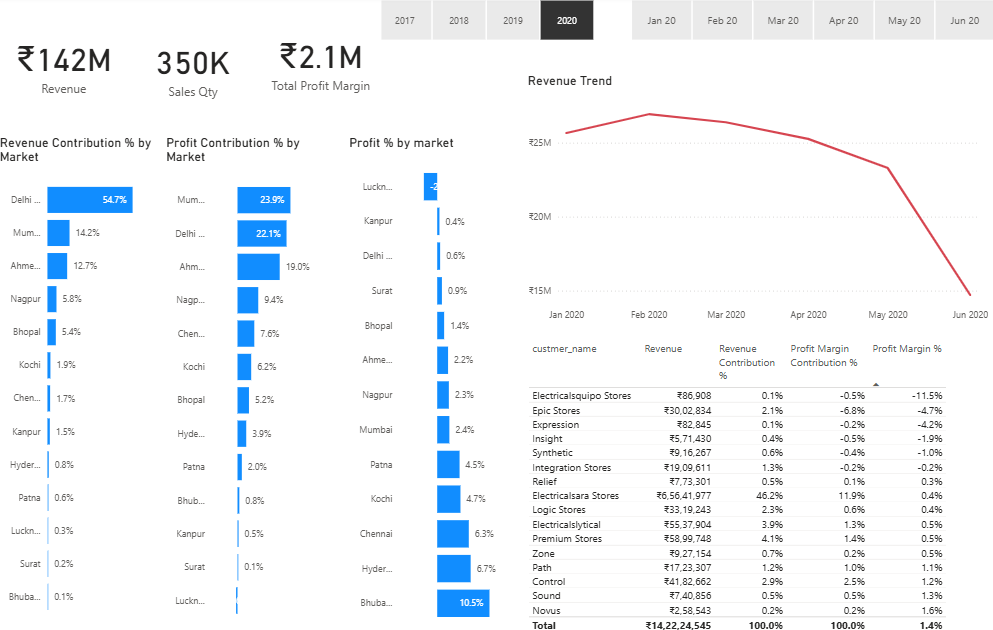

Layout of this report page (visuals, bound fields, positions):
{"tool":"powerbi","page":{"name":"Profit Analysis","canvas":[1350,850],"ordinal":1},"visuals":[{"type":"card","fields":{"Values":["BaseMeasures (2).Revenue"]},"box":[0,0,179.6,184.8],"z":0},{"type":"card","fields":{"Values":["BaseMeasures (2).Sales Qty"]},"box":[179.6,0,164.1,193],"z":1000},{"type":"barChart","title":"Profit % by market","fields":{"Y":["BaseMeasures (2).Profit Margin %"],"Category":["sales markets.markets_name"]},"box":[464.5,184.8,230.2,664.8],"z":2000},{"type":"barChart","title":"Profit Contribution % by Market","fields":{"Y":["BaseMeasures (2).Profit Margin Contribution %"],"Category":["sales markets.markets_name"]},"box":[221.9,185.8,208.5,659.6],"z":3000},{"type":"slicer","fields":{"Values":["sales date.year"]},"box":[483.2,0,335.5,66.5],"z":4000},{"type":"slicer","fields":{"Values":["sales date.cy_date"]},"box":[818.6,0,531.7,66.5],"z":5000},{"type":"tableEx","title":"Top 5 Customers","fields":{"Values":["sales customers.custmer_name","BaseMeasures (2).Revenue","BaseMeasures (2).Revenue Contribution %","BaseMeasures (2).Profit Margin Contribution %","BaseMeasures (2).Profit Margin %"]},"box":[701.9,454.2,648.3,395.4],"z":6000},{"type":"lineChart","title":"Revenue Trend","fields":{"Y":["BaseMeasures (2).Revenue"],"Category":["sales date.cy_date"]},"box":[701.9,104.3,621.4,338.6],"z":7000},{"type":"card","fields":{"Values":["BaseMeasures (2).Total Profit Margin"]},"box":[349.9,0,161,176.5],"z":8000},{"type":"barChart","title":"Revenue Contribution % by Market","fields":{"Y":["BaseMeasures (2).Revenue Contribution %"],"Category":["sales markets.markets_name"]},"box":[0,185.8,219.9,654.5],"z":9000}]}

Visuals, with their boxes in screenshot pixels (x1, y1, x2, y2), scaled from the page's 1350x850 canvas onto the 993x630 screenshot:
card - BaseMeasures (2).Revenue: [x1=0, y1=0, x2=132, y2=137]
card - BaseMeasures (2).Sales Qty: [x1=132, y1=0, x2=253, y2=143]
"Profit % by market" barChart: [x1=342, y1=137, x2=511, y2=629]
"Profit Contribution % by Market" barChart: [x1=163, y1=138, x2=317, y2=627]
slicer - sales date.year: [x1=355, y1=0, x2=602, y2=49]
slicer - sales date.cy_date: [x1=602, y1=0, x2=992, y2=49]
"Top 5 Customers" tableEx: [x1=516, y1=337, x2=992, y2=629]
"Revenue Trend" lineChart: [x1=516, y1=77, x2=973, y2=328]
card - BaseMeasures (2).Total Profit Margin: [x1=257, y1=0, x2=376, y2=131]
"Revenue Contribution % by Market" barChart: [x1=0, y1=138, x2=162, y2=623]
